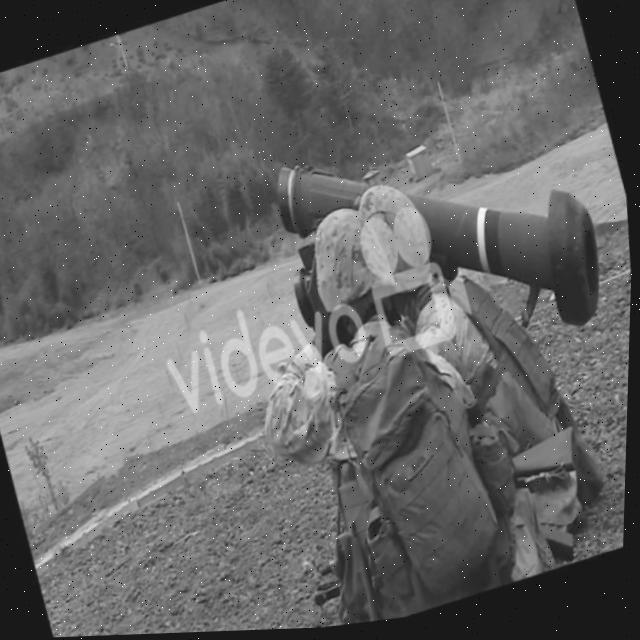rocket: (269, 85, 622, 401)
